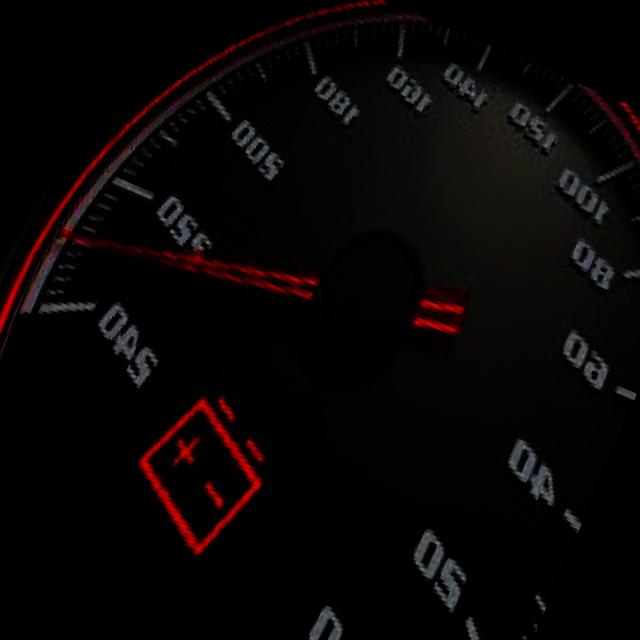kontrolka: (96, 356, 304, 588)
